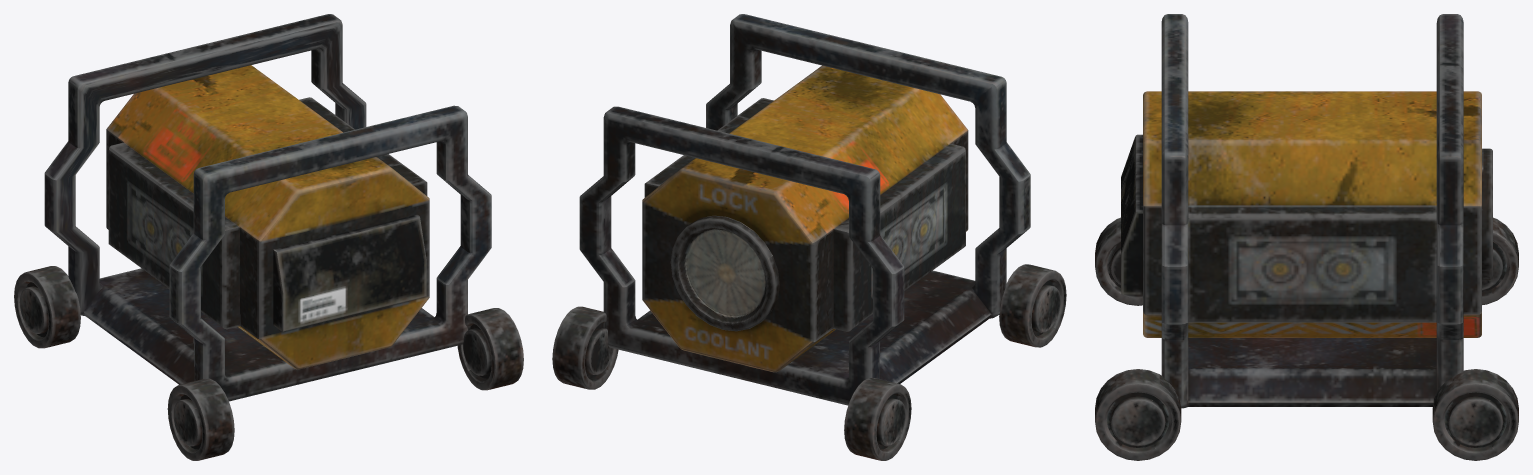
The model's file is SM_Industrial_Props_LP_pCube14.fbx.
3 renders of one model, left to right at view 1: azimuth 30°, elevation 25°; view 2: azimuth 150°, elevation 25°; view 3: azimuth 270°, elevation 25°, orthographic. The views are drawn at different scales.
Visible parts, largest first — view 1: SM_Industrial_Props_LP_pCube14_LOD0; view 2: SM_Industrial_Props_LP_pCube14_LOD0; view 3: SM_Industrial_Props_LP_pCube14_LOD0.
Boxes of the visible parts, left/top/right/bottom form: SM_Industrial_Props_LP_pCube14_LOD0: left=14, top=14, right=523, bottom=460; SM_Industrial_Props_LP_pCube14_LOD0: left=552, top=14, right=1066, bottom=460; SM_Industrial_Props_LP_pCube14_LOD0: left=1095, top=14, right=1518, bottom=460.
Size of the model in its own units: 145 by 151 by 115.
1 material, 1 textured.
